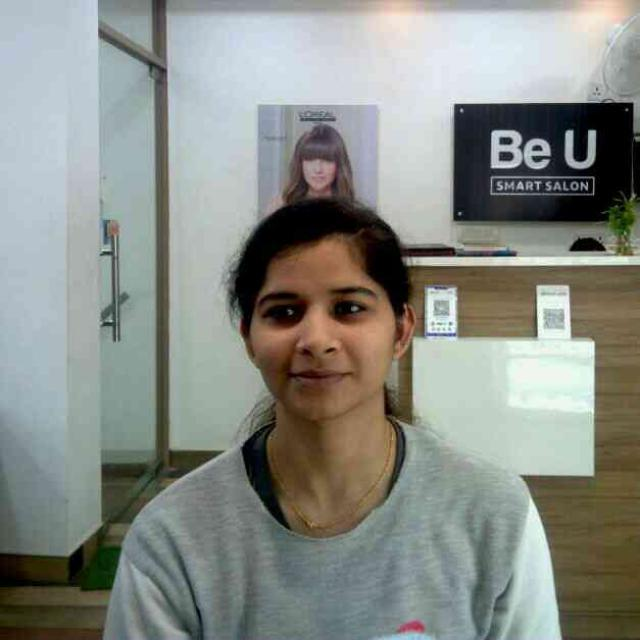puffy_eyes: (268, 305, 307, 328), (331, 313, 371, 323)
